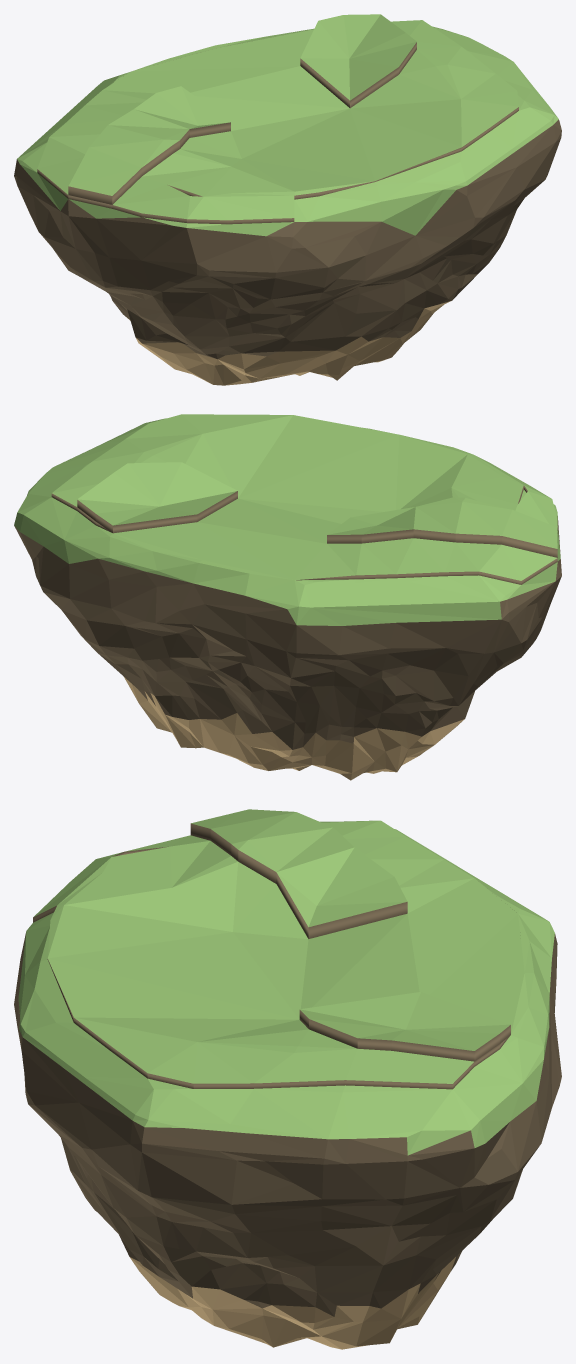
File: floating island 2.fbx
The picture shows the model from 3 angles, top to bottom: view 1: azimuth 30°, elevation 25°; view 2: azimuth 150°, elevation 25°; view 3: azimuth 270°, elevation 25°; orthographic projection. The views are drawn at different scales.
Visible parts, largest first — view 1: polySurface1; view 2: polySurface1; view 3: polySurface1.
Part boxes in pixels (x1,y1,x2,y2): polySurface1: (14, 14, 561, 385); polySurface1: (14, 414, 561, 780); polySurface1: (14, 809, 561, 1349).
Bounding box in the file's own units: 13.32 × 7.08 × 9.75.
